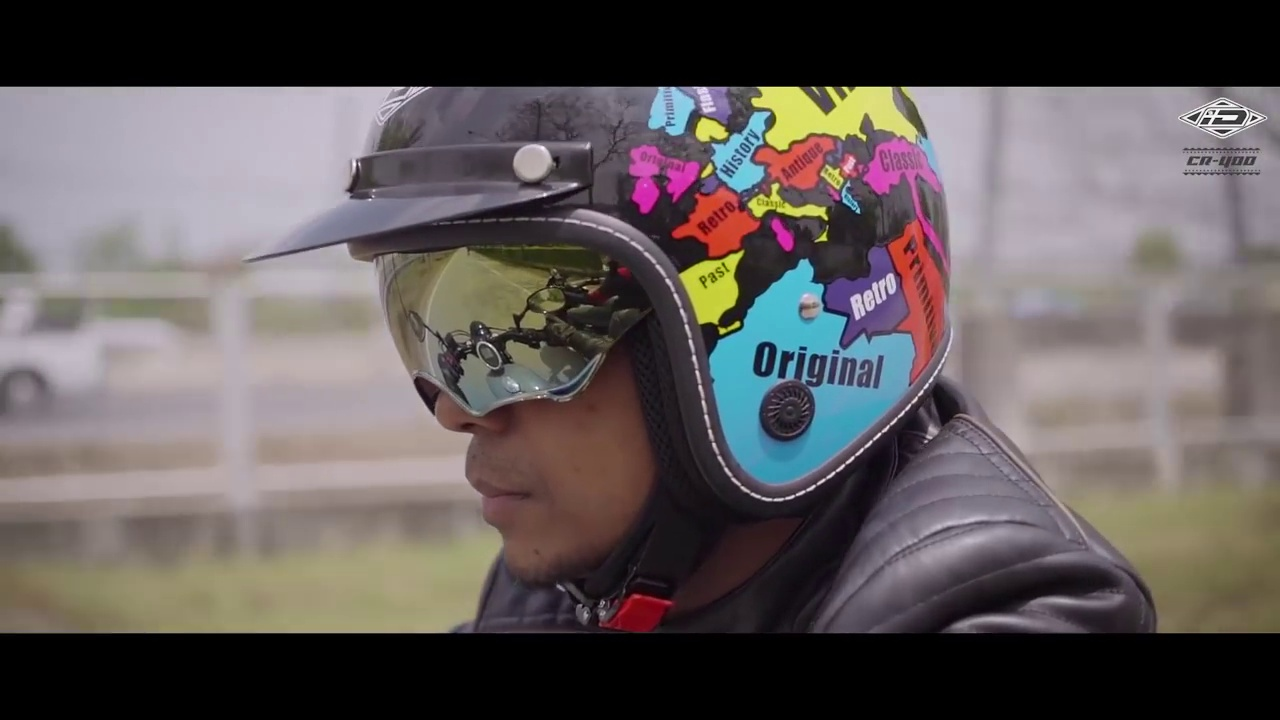helmet: (326, 85, 967, 517)
